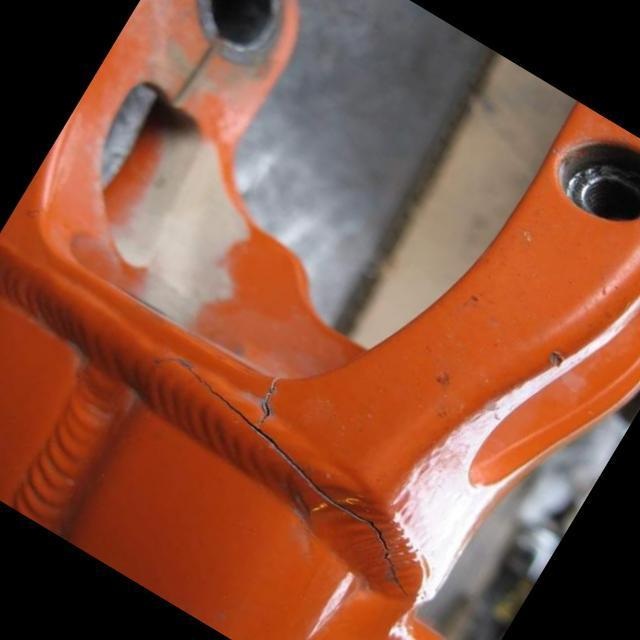defect: (150, 355, 424, 599)
